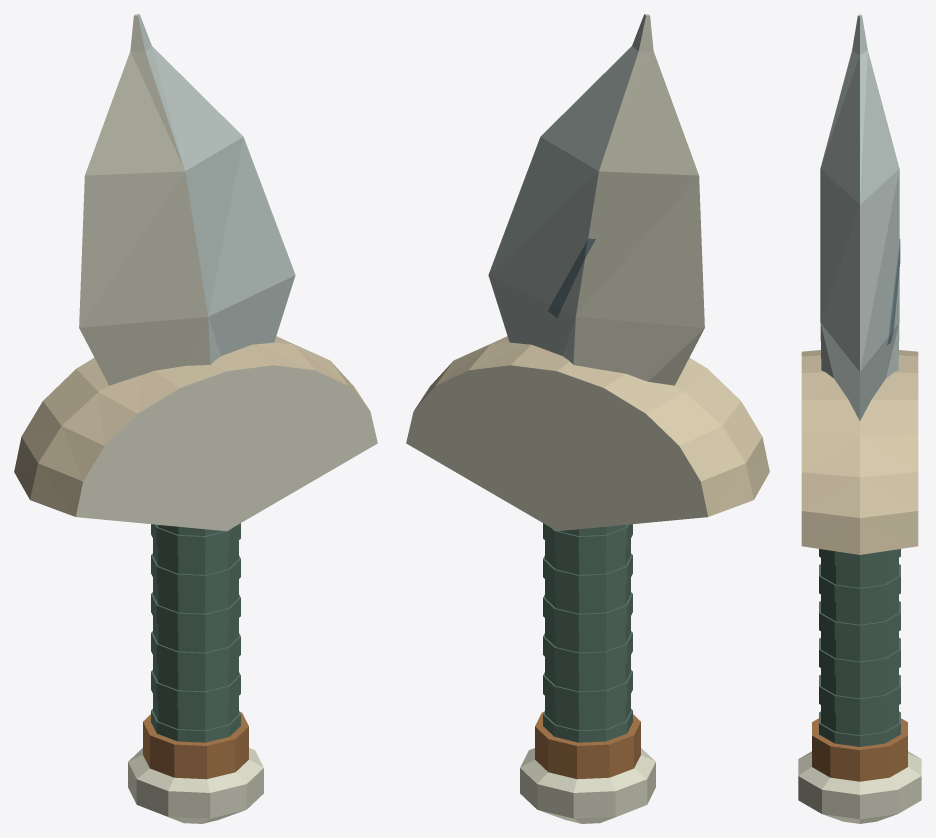
Rendered from SWW_OysterheartDagger.fbx.
The picture shows the model from 3 angles, left to right: view 1: azimuth 30°, elevation 25°; view 2: azimuth 150°, elevation 25°; view 3: azimuth 270°, elevation 25°; orthographic projection. The views are drawn at different scales.
Visible parts, largest first — view 1: SWW_OysterheartDagger; view 2: SWW_OysterheartDagger; view 3: SWW_OysterheartDagger.
Part boxes in pixels (bbox=[...]): SWW_OysterheartDagger: bbox=[14, 14, 377, 823]; SWW_OysterheartDagger: bbox=[406, 14, 769, 823]; SWW_OysterheartDagger: bbox=[798, 14, 921, 823].
Size of the model in its own units: 0.23 by 0.537 by 0.078.
